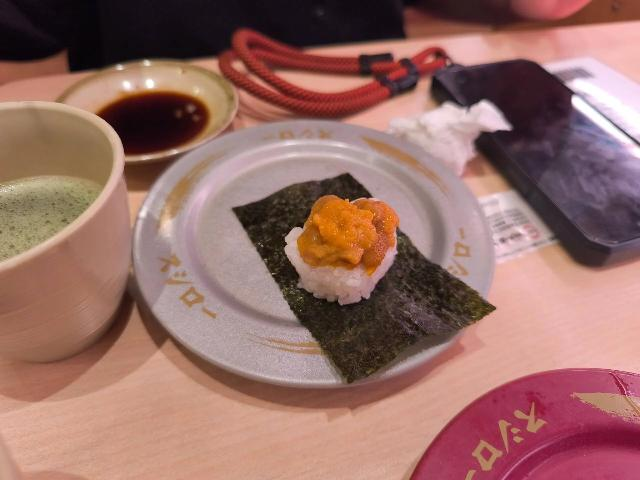janred: (363, 341, 640, 480)
janwhite: (103, 142, 552, 386)
